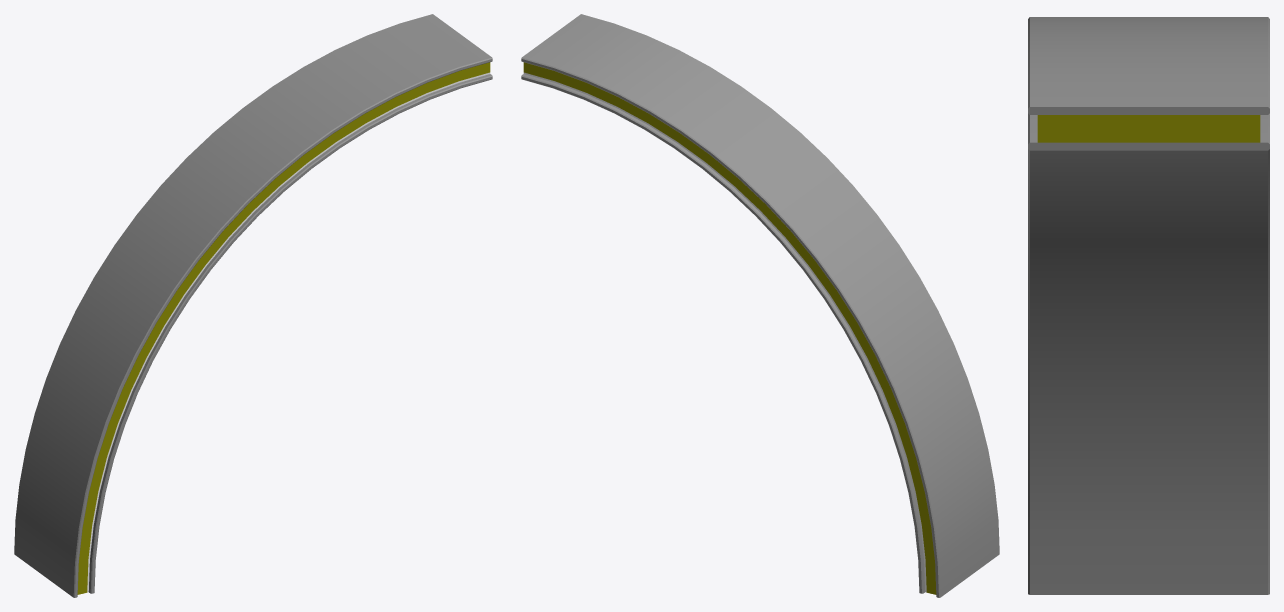
Rendered from Mesh_Levelblock_Arch.FBX.
The picture shows the model from 3 angles, left to right: view 1: azimuth 30°, elevation 25°; view 2: azimuth 150°, elevation 25°; view 3: azimuth 270°, elevation 25°; orthographic projection. The views are drawn at different scales.
Visible parts, largest first — view 1: Mesh_Ring1; view 2: Mesh_Ring1; view 3: Mesh_Ring1.
Boxes of the visible parts, x1,y1,x2,y2 form: Mesh_Ring1: (14,14,492,597); Mesh_Ring1: (521,14,999,597); Mesh_Ring1: (1028,17,1269,594).
Size of the model in its own units: 40 by 40 by 10.
